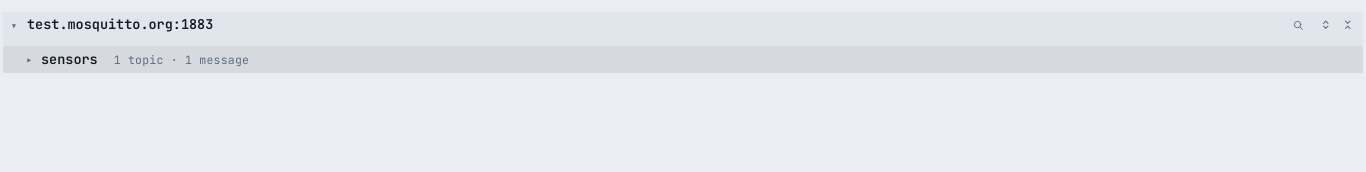
Test: rooted at the broker › folds the whole tree away when the broker row is collapsed
Expected: the text "sensors" is shown, [41,49,98,70]
Click the button named "Collapse test.mosquitto.org": (14, 25) [9,20,19,30]
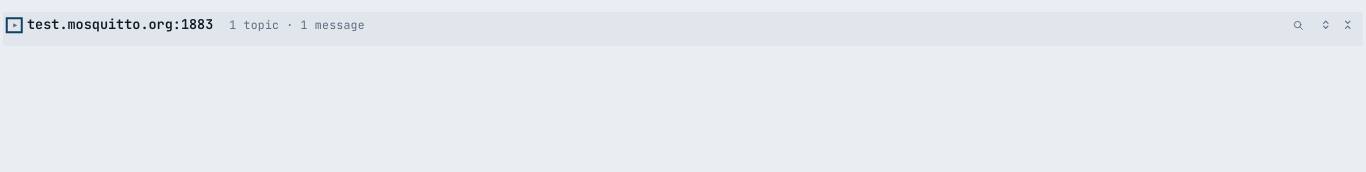
Expected: the button "test.mosquitto.org:1883 1 topic · 1 message" is shown, [27,14,1279,35]
Expected: the button "sensors" is gone
